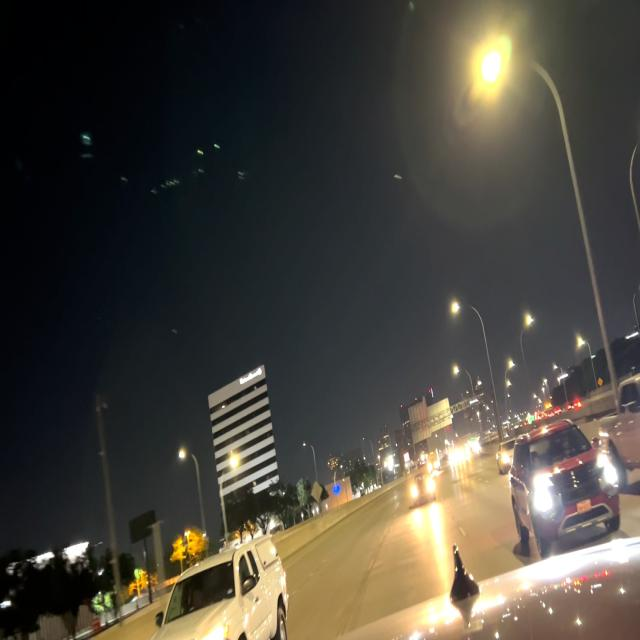back-of-sign: (408, 399, 453, 447), (309, 479, 324, 502)
